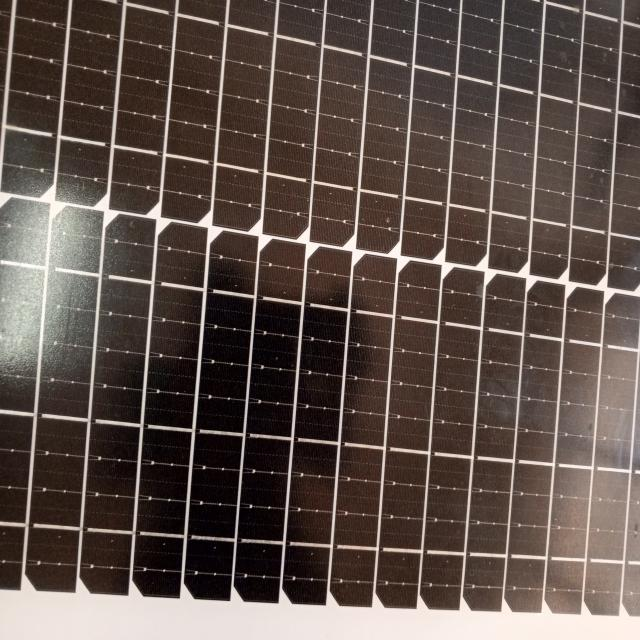Clean: (130, 5, 638, 632)
